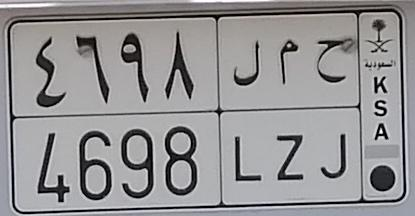4: (36, 35, 71, 204)
6: (75, 34, 114, 201)
8: (163, 29, 199, 197)
9: (120, 31, 155, 199)
J: (316, 39, 348, 180)
L: (233, 39, 262, 184)
Z: (276, 38, 305, 181)
